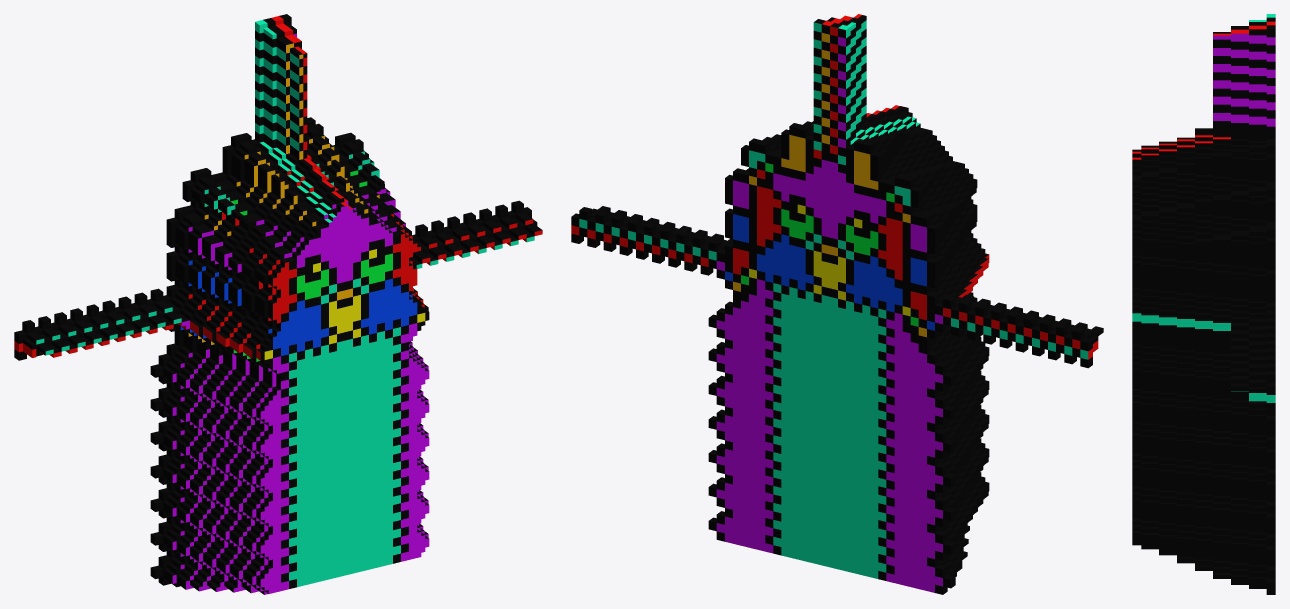
File: dreamlingP10.obj
3 renders of one model, left to right at view 1: azimuth 30°, elevation 25°; view 2: azimuth 150°, elevation 25°; view 3: azimuth 270°, elevation 25°, orthographic. The views are drawn at different scales.
Size of the model in its own units: 128 by 128 by 32.
